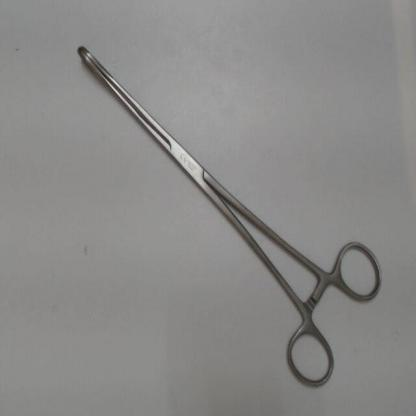Sponge Forceps: (72, 35, 391, 398)
